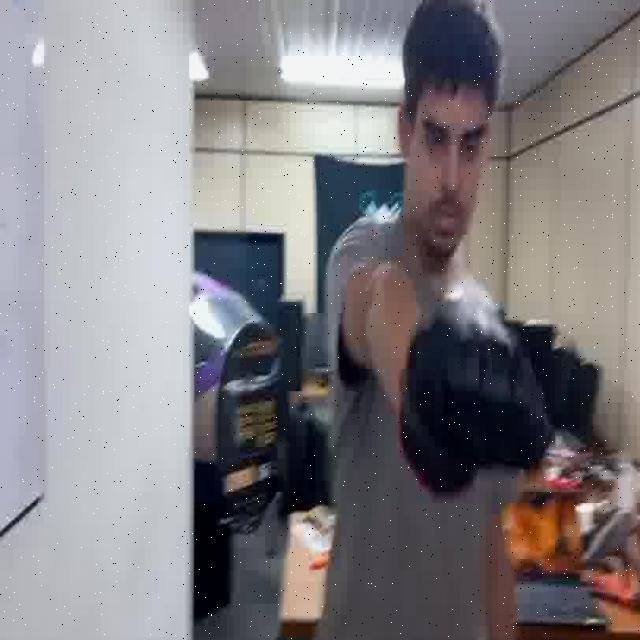Gloves: (394, 312, 544, 474)
